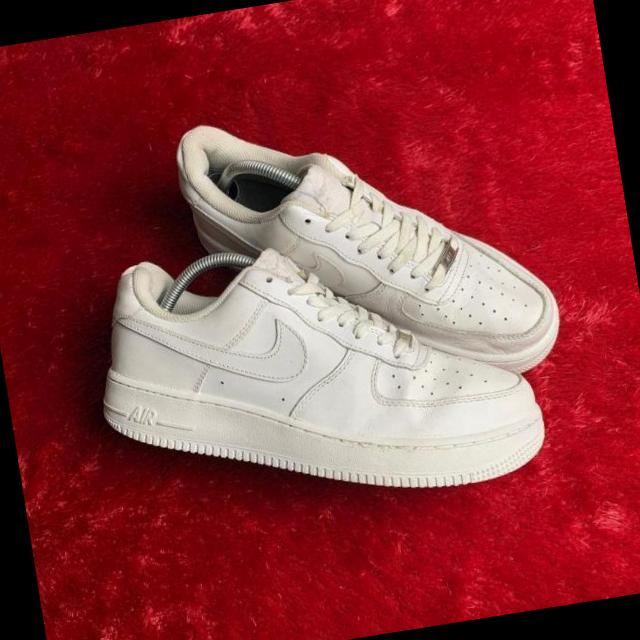nike_fake_airforce: (70, 204, 552, 542), (167, 69, 576, 414)
